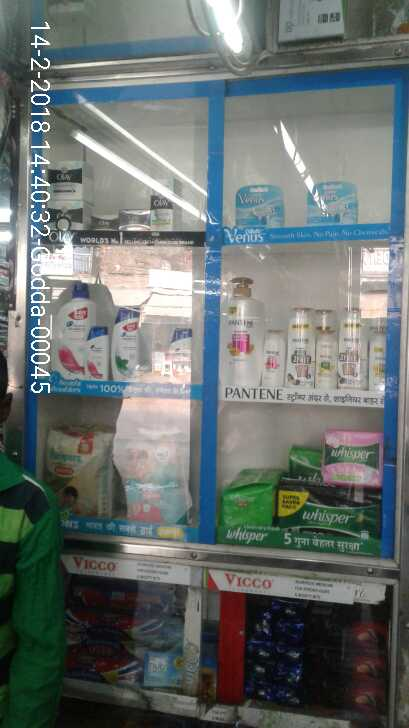venus: (310, 185, 360, 227), (235, 186, 285, 228)
